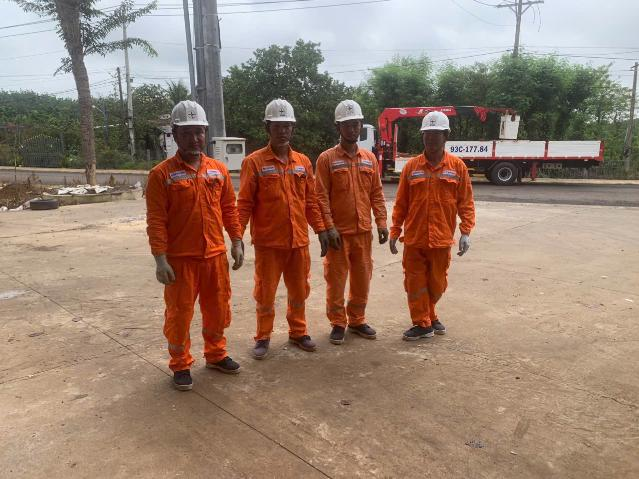gloves: (148, 252, 186, 298), (322, 222, 348, 257), (231, 236, 253, 271), (455, 233, 477, 266), (314, 226, 329, 261), (372, 222, 390, 250)
helmet: (164, 95, 225, 137), (251, 91, 309, 131), (412, 105, 459, 142), (326, 100, 368, 125)
shoes: (283, 324, 332, 352), (394, 313, 436, 340), (345, 315, 375, 344), (203, 350, 245, 369), (166, 366, 200, 387), (248, 326, 271, 355), (425, 309, 446, 337), (325, 324, 347, 345)
